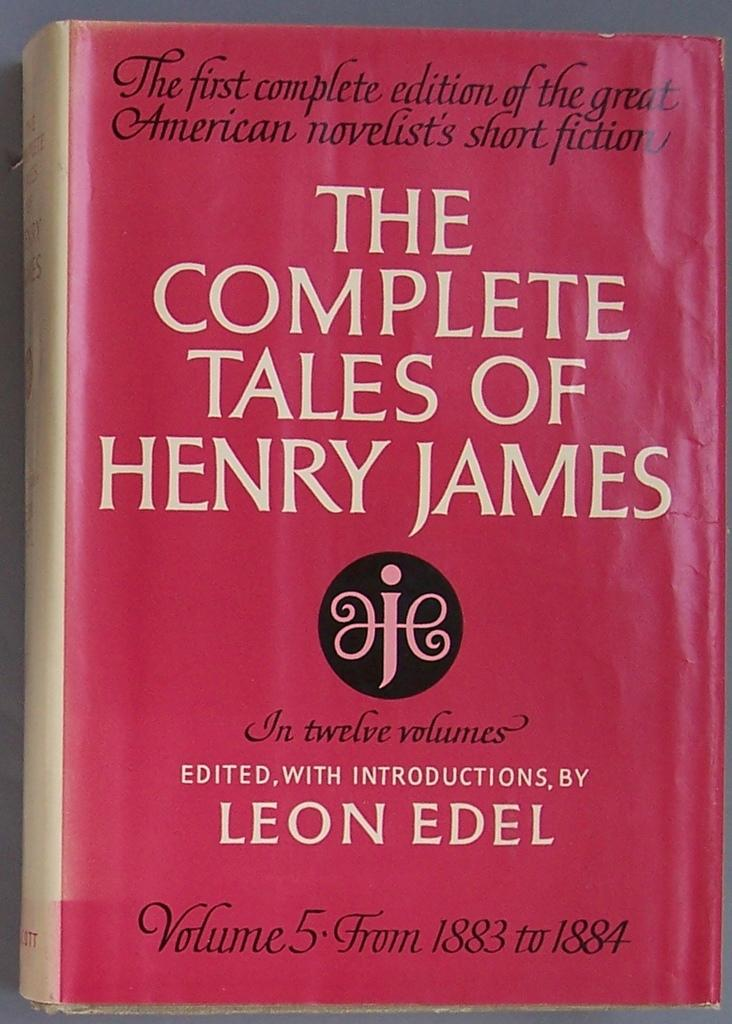book: (37, 43, 732, 1024)
